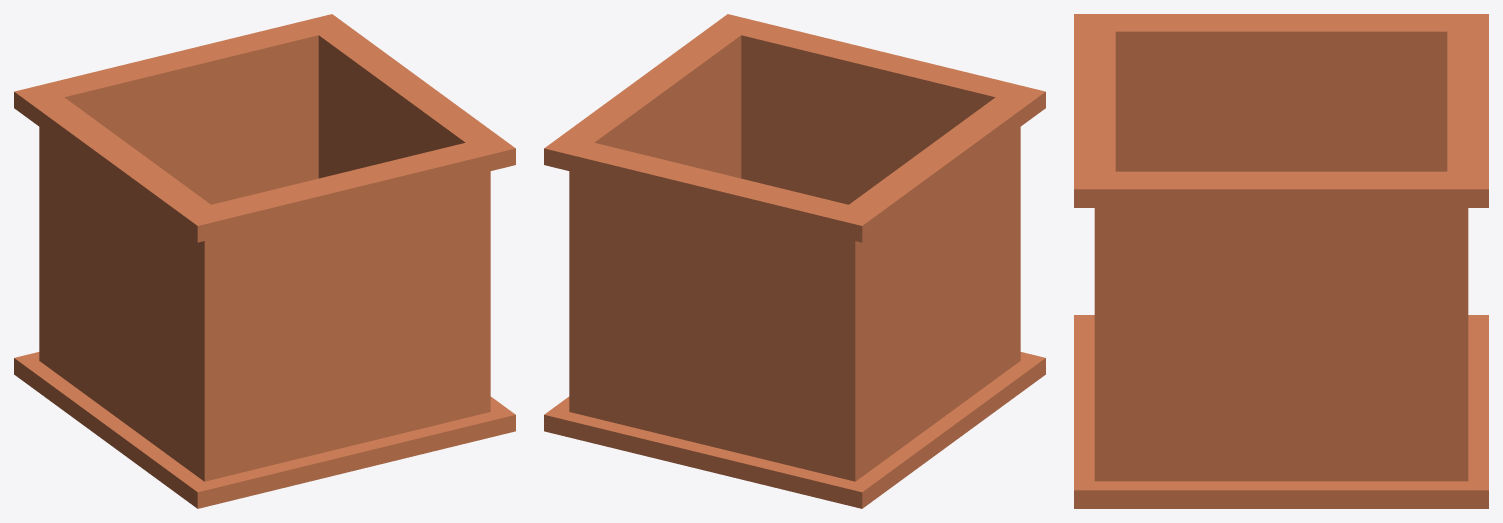
The model's file is pot_4_empty.fbx.
3 renders of one model, left to right at view 1: azimuth 30°, elevation 25°; view 2: azimuth 150°, elevation 25°; view 3: azimuth 270°, elevation 25°, orthographic. The views are drawn at different scales.
Visible parts, largest first — view 1: pot_empty; view 2: pot_empty; view 3: pot_empty.
Boxes of the visible parts, <box> form: pot_empty: <box>14,14,515,508</box>; pot_empty: <box>544,14,1045,508</box>; pot_empty: <box>1074,14,1488,508</box>.
Bounding box in the file's own units: 200 × 170 × 200.
